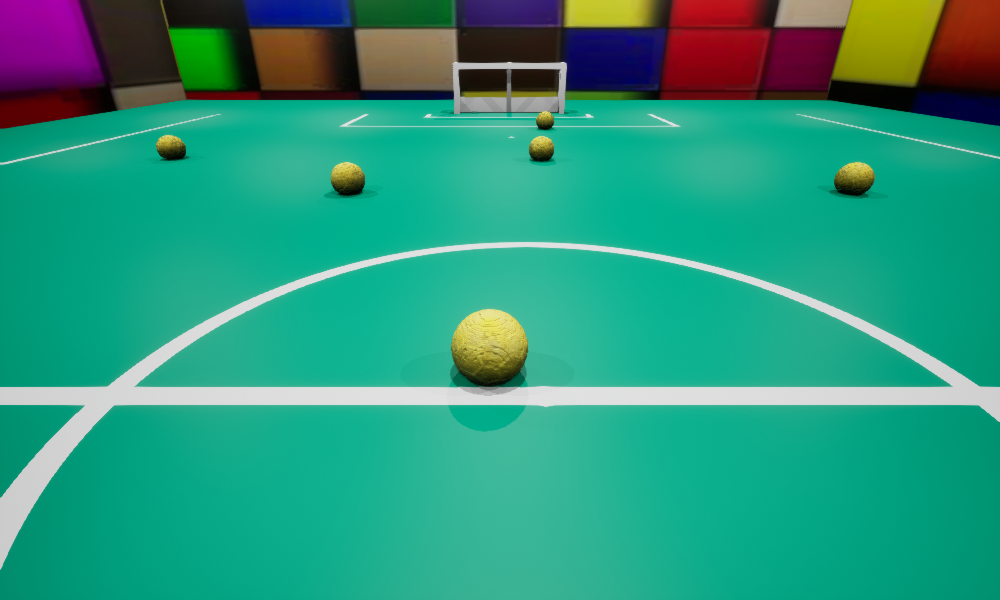b: (451, 309, 527, 386), (834, 162, 874, 194), (330, 162, 364, 193), (156, 135, 185, 159), (529, 136, 553, 160), (536, 111, 553, 128)
g: (452, 62, 566, 113)
